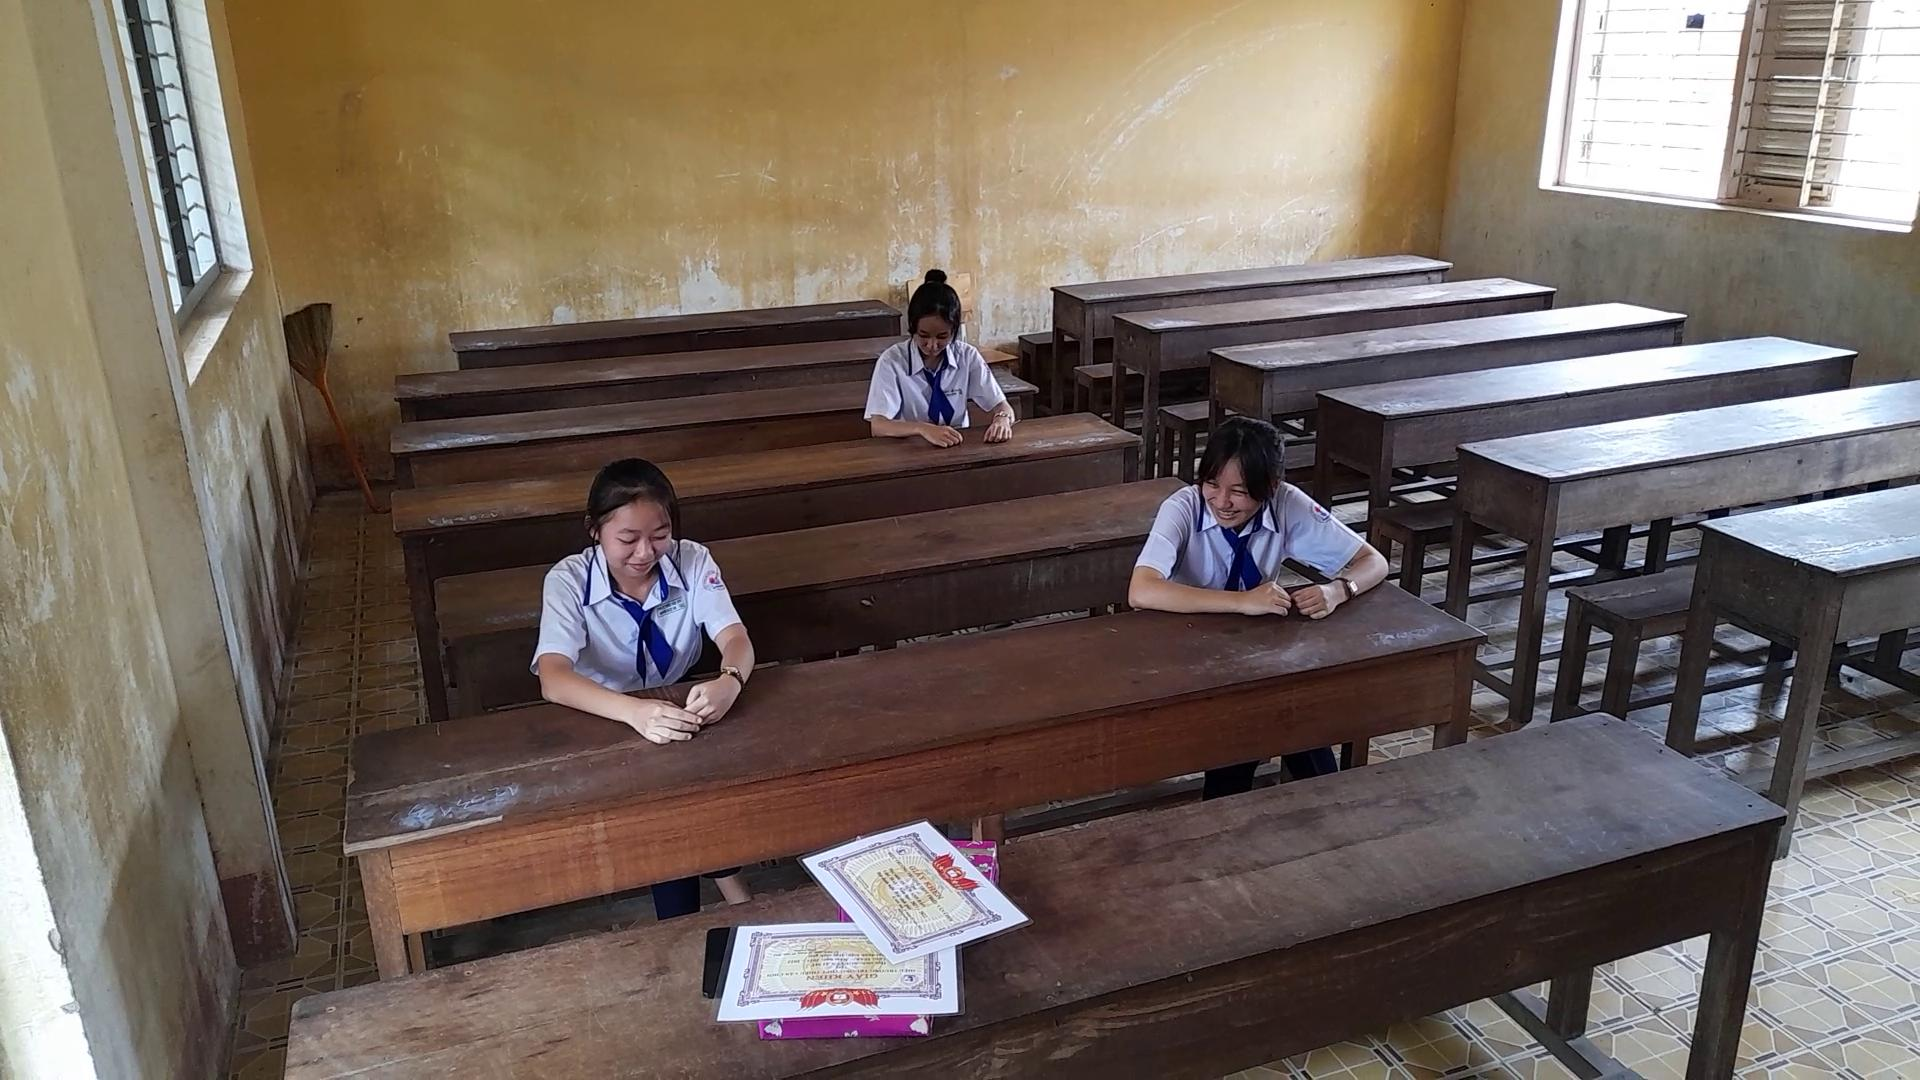Bend Over The Desk: (880, 255, 978, 375)
Look Around: (1175, 402, 1296, 549)
Normal: (518, 448, 766, 744)
